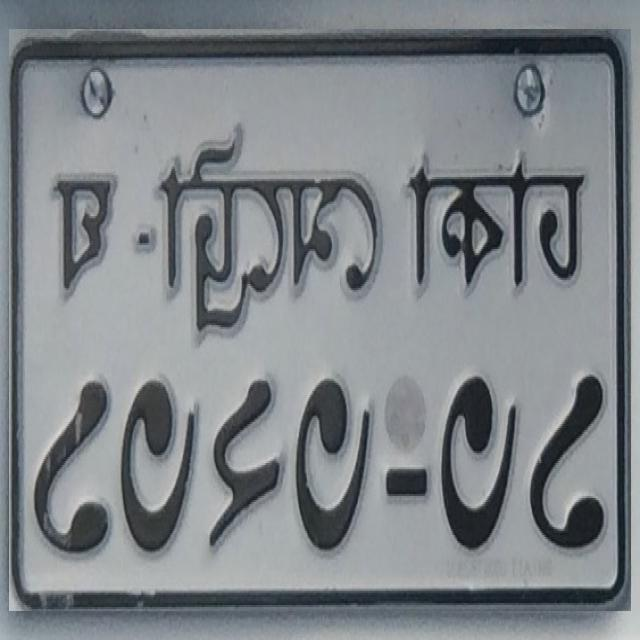cng: (94, 63, 126, 116), (526, 66, 559, 117)
numberplate: (9, 29, 631, 611)
